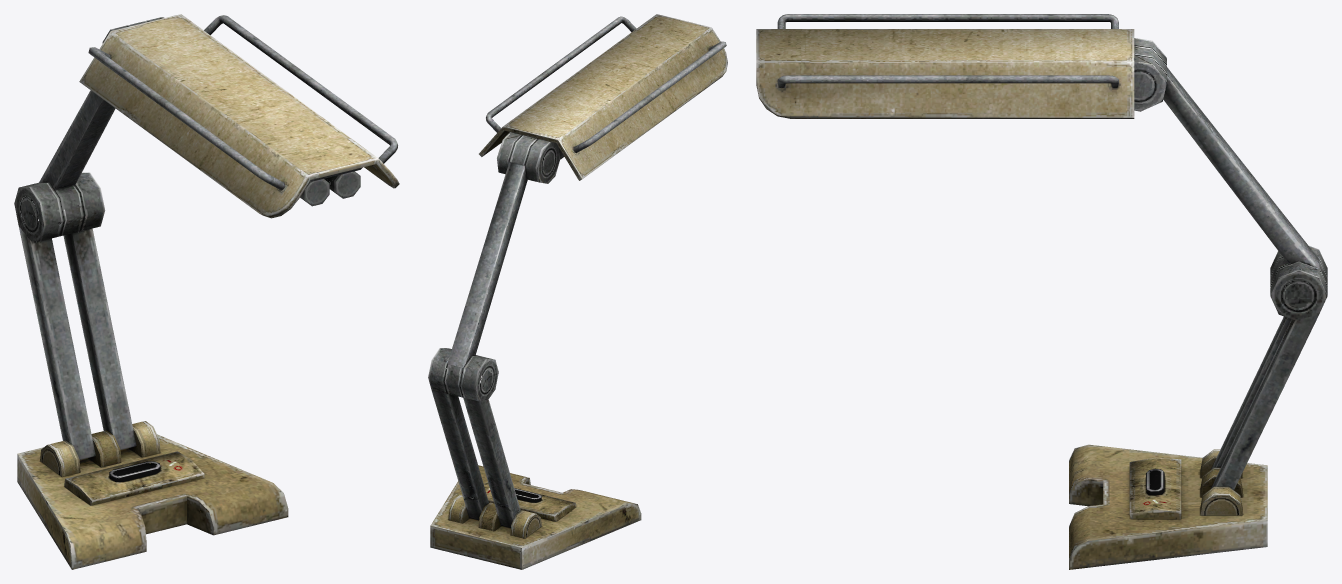
The model's file is desk_lamp.dae.
The picture shows the model from 3 angles, left to right: view 1: azimuth 30°, elevation 25°; view 2: azimuth 150°, elevation 25°; view 3: azimuth 270°, elevation 25°; orthographic projection. The views are drawn at different scales.
Parts seen in each view (by area): view 1: Mesh__2_; view 2: Mesh__2_; view 3: Mesh__2_.
Boxes of the visible parts, left/top/right/bottom form: Mesh__2_: left=14, top=14, right=399, bottom=569; Mesh__2_: left=428, top=14, right=727, bottom=569; Mesh__2_: left=756, top=14, right=1327, bottom=569.
Size of the model in its own units: 0.2287 by 0.501 by 0.5471.
